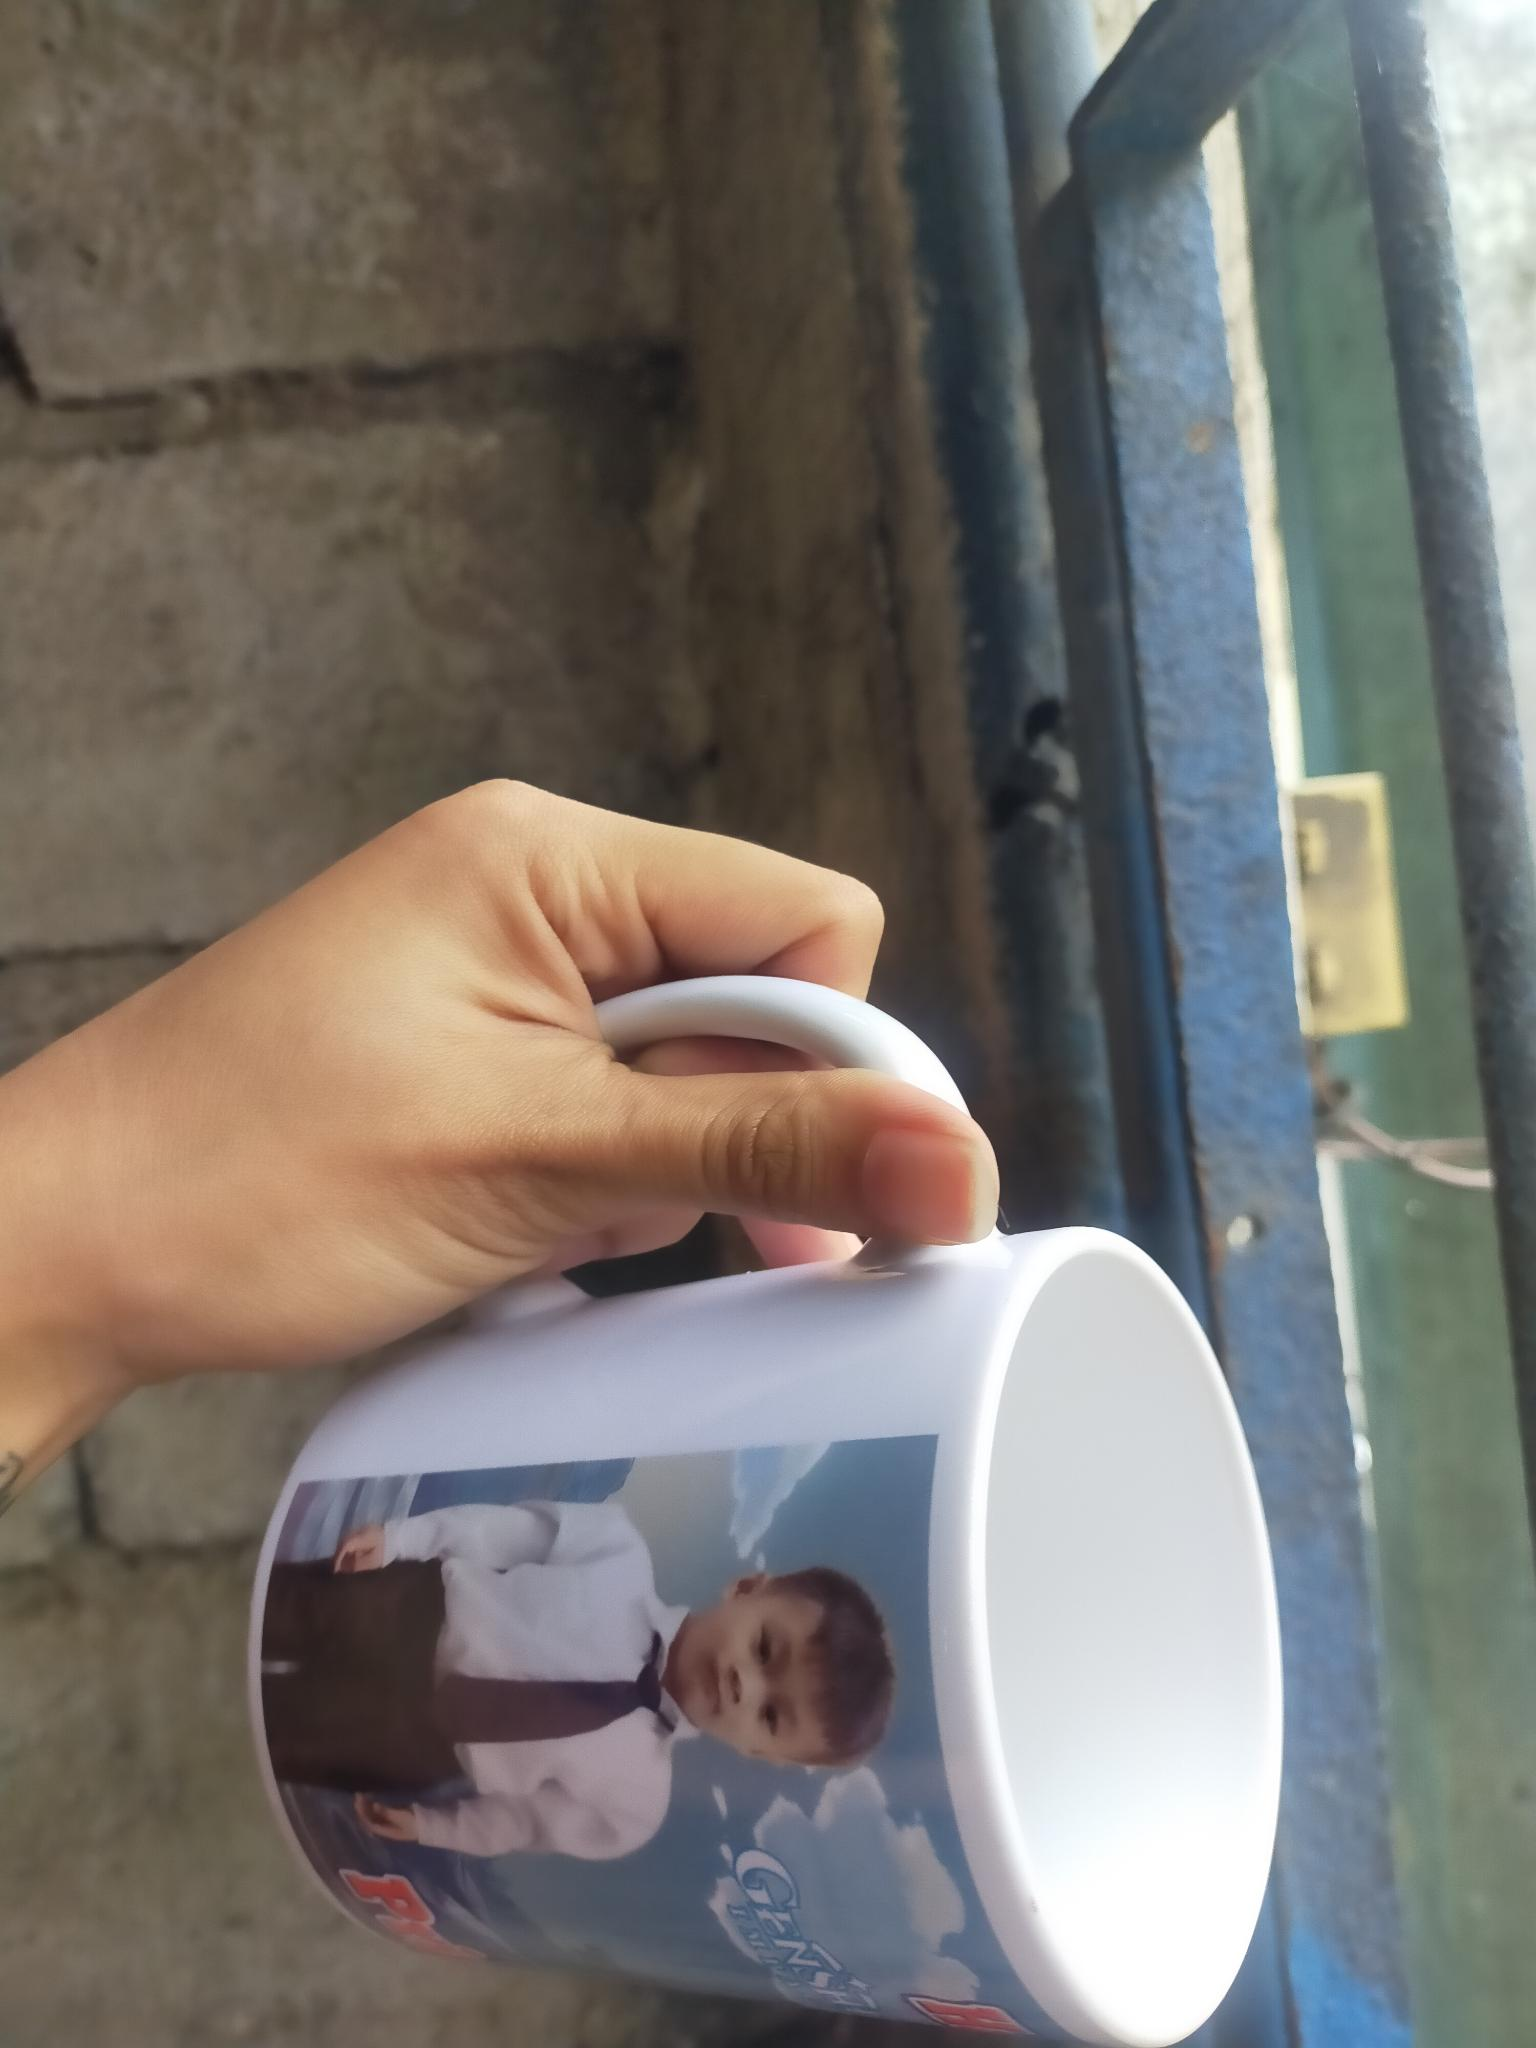Coffee Mug: (253, 980, 1288, 2048)
